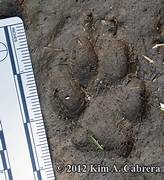coyote: (48, 27, 147, 164)
